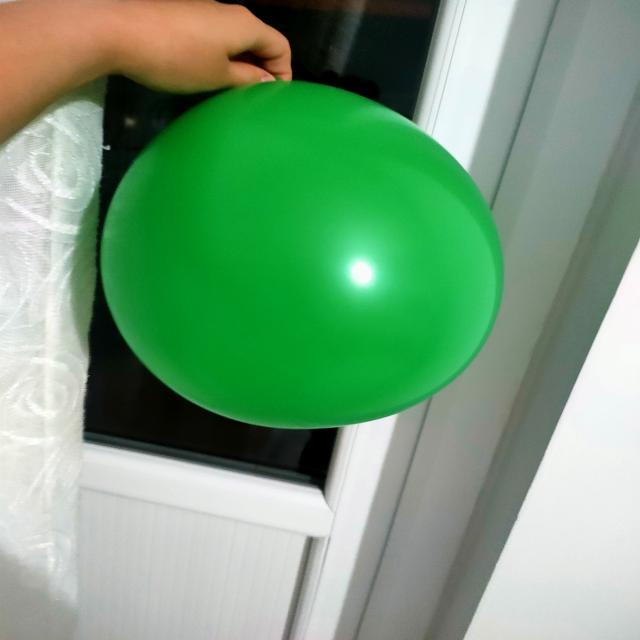green: (102, 81, 506, 431)
